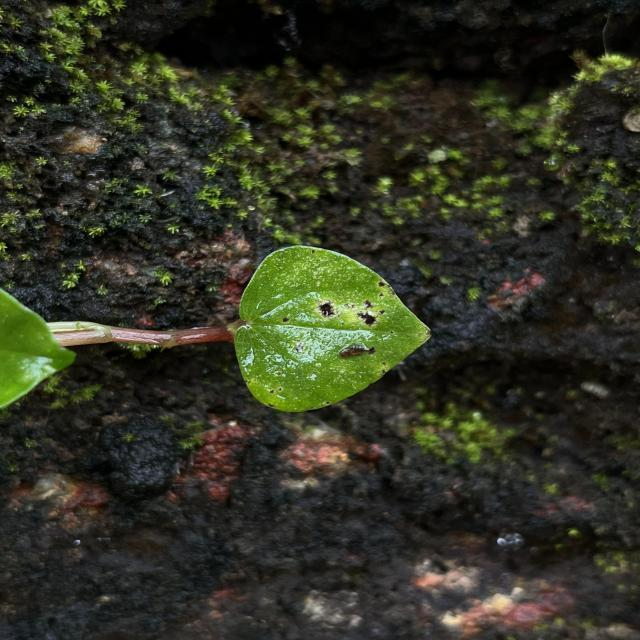Peperomia pellucida: (232, 244, 436, 417)
